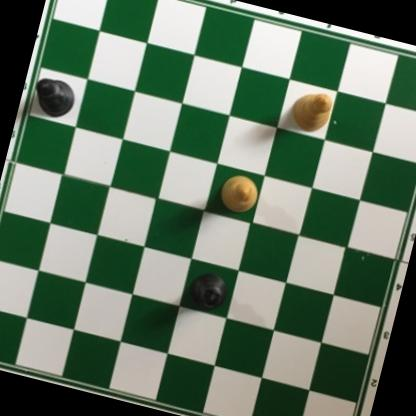black-bishop: (28, 74, 81, 122), (185, 270, 230, 315)
white-bishop: (216, 168, 266, 220), (285, 87, 335, 137)
